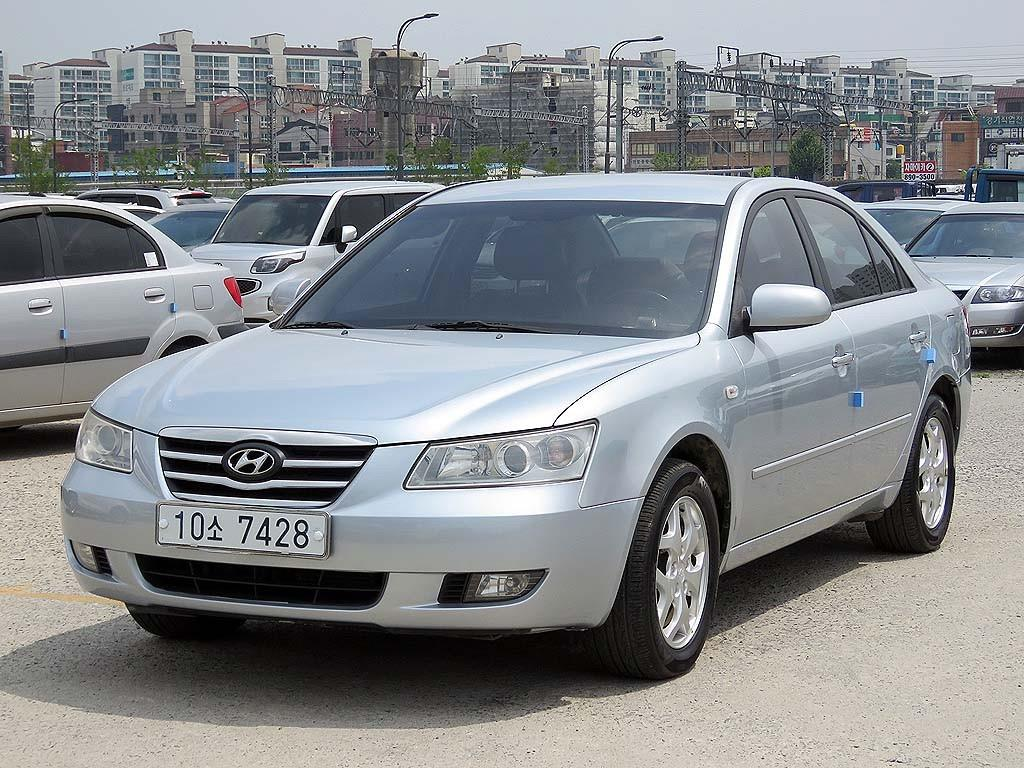plate: (158, 505, 325, 556)
